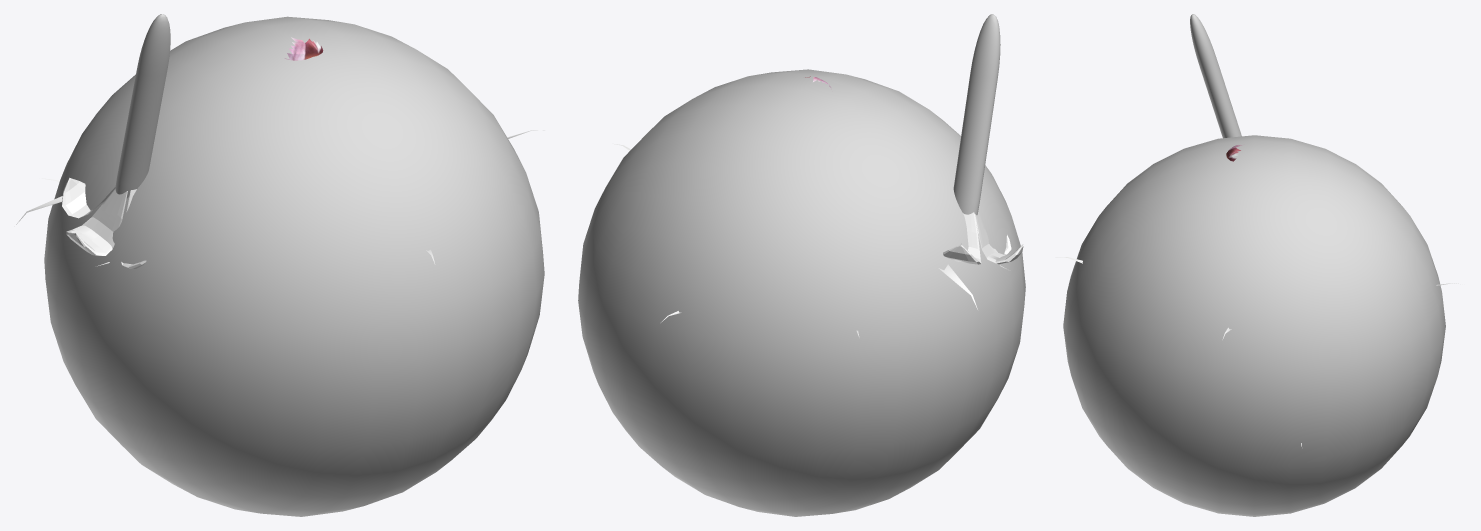
File: flo.glb
3 renders of one model, left to right at view 1: azimuth 30°, elevation 25°; view 2: azimuth 150°, elevation 25°; view 3: azimuth 270°, elevation 25°, orthographic. The views are drawn at different scales.
Parts seen in each view (by area): view 1: Sphere, Capsule, Cube.004, Cube.003; view 2: Sphere, Capsule, Cube.003, Cube.004; view 3: Sphere, Capsule.
Boxes of the visible parts, x1,y1,x2,y2 form: Sphere: (44,16,544,516); Capsule: (115,14,170,198); Cube.004: (66,188,127,255); Cube.003: (62,177,115,218); Sphere: (578,69,1025,516); Capsule: (953,14,1000,215); Cube.003: (943,212,981,264); Cube.004: (974,211,1023,264); Sphere: (1063,135,1445,516); Capsule: (1190,14,1241,138).
Size of the model in its own units: 2.18 by 2.43 by 2.16.
5 materials, 1 textured.
